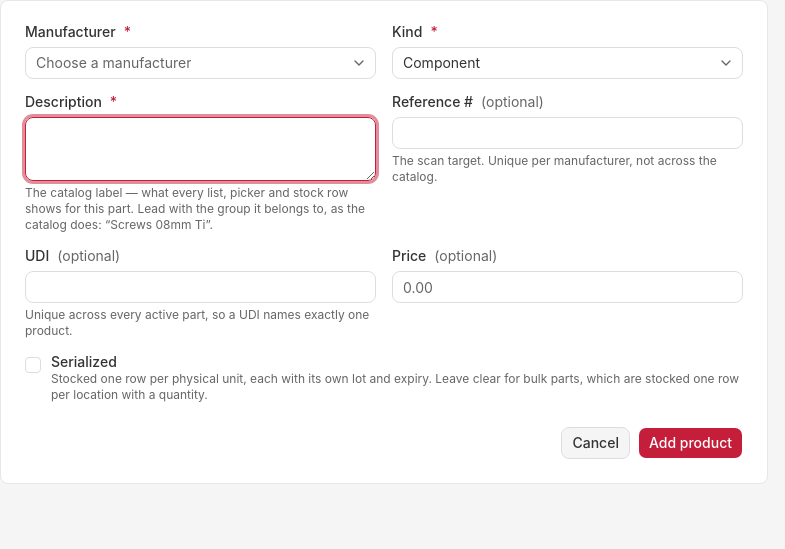
Test case: adding a product › refuses to submit without a manufacturer or a description
Check: the dropdown labelled "Choose a manufacturer" is shown, box [25,47,376,79]
What coordinates should you click on to do the following:
click the button "Add product"
I would click on:
 (690, 443)
Its box is [638,427,743,459].
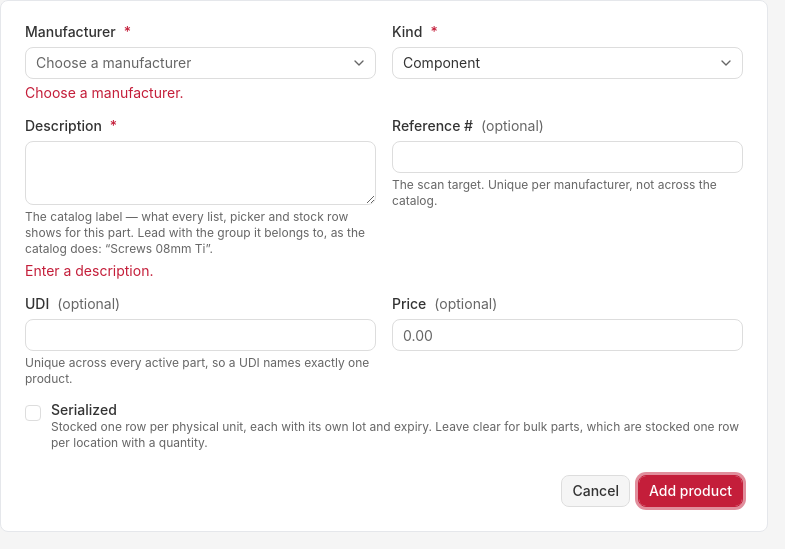
Check: the text "Choose a manufacturer." is shown, box [25,84,184,101]
Check: the text "Enter a description." is shown, box [25,262,154,279]
